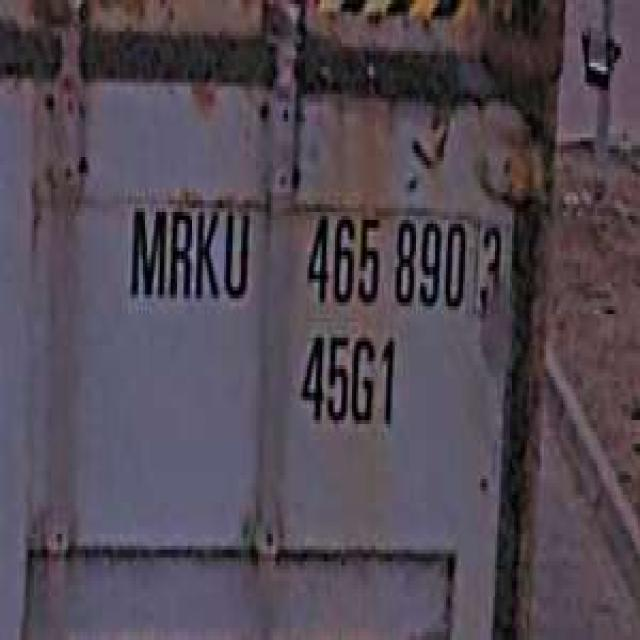dv: (469, 208, 506, 318)
owner: (119, 200, 254, 314)
serial: (296, 204, 469, 322)
size: (292, 322, 401, 440)
